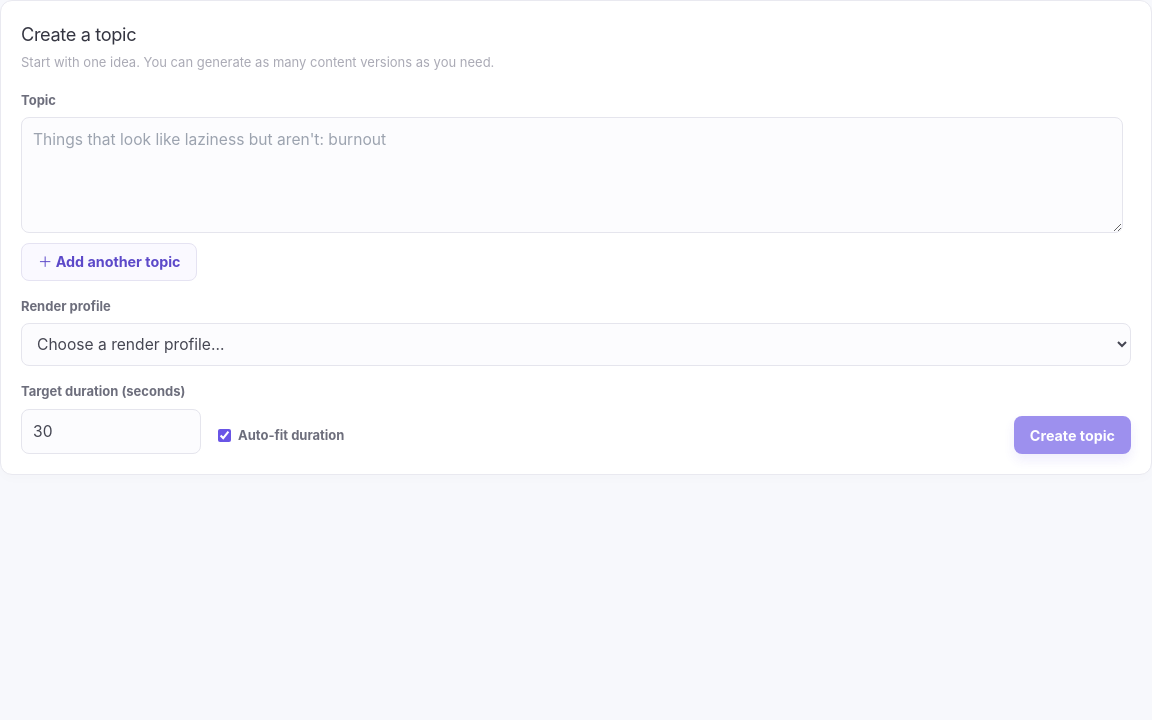
Test case: create topic form › creates multiple independent topics when another topic is added
The width and height of the screenshot is (1152, 720).
Click the button "＋ Add another topic". click: (109, 262)
box: [21,243,198,281]
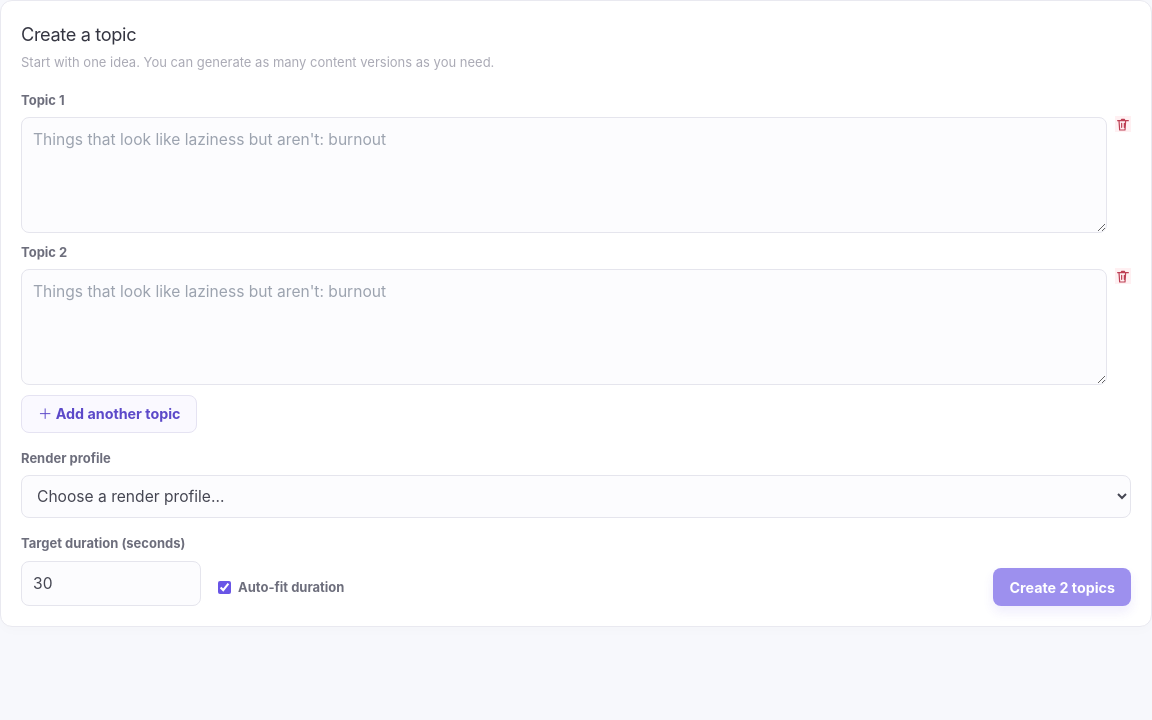
Type "First topic" into the text box labelled "Topic 1". click: (564, 175)
box: [21,117,1107,233]
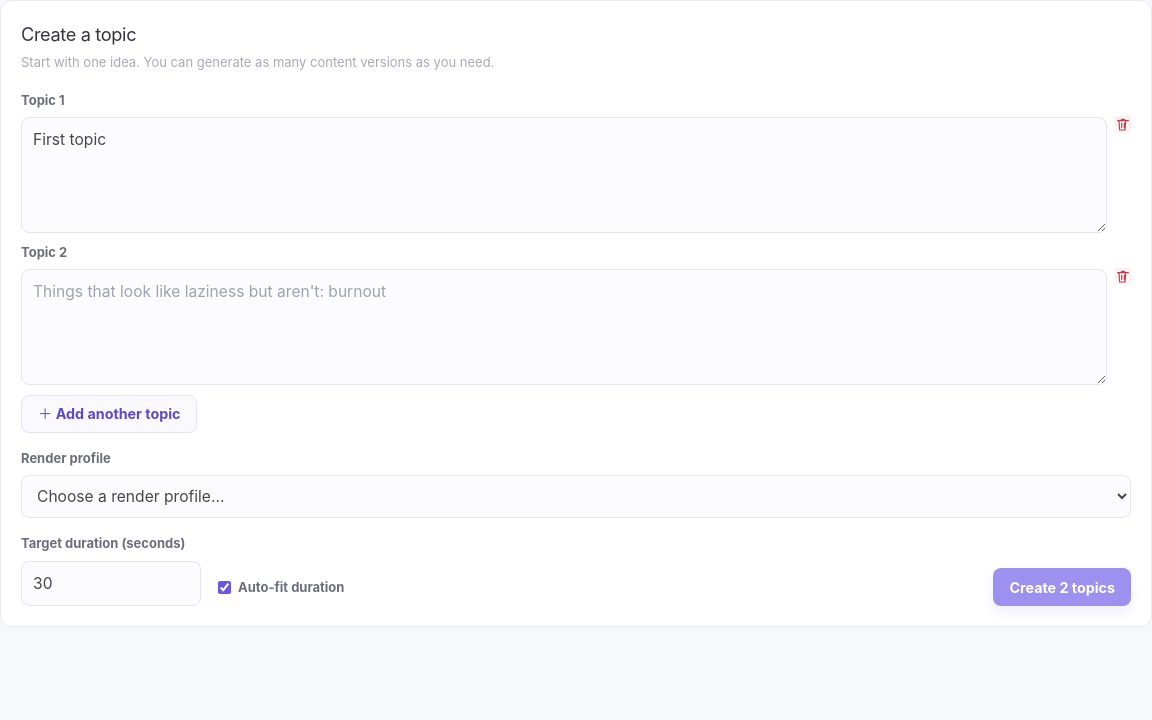
Type "Second topic" into the text box labelled "Topic 2". click: (564, 327)
box: [21,269,1107,385]
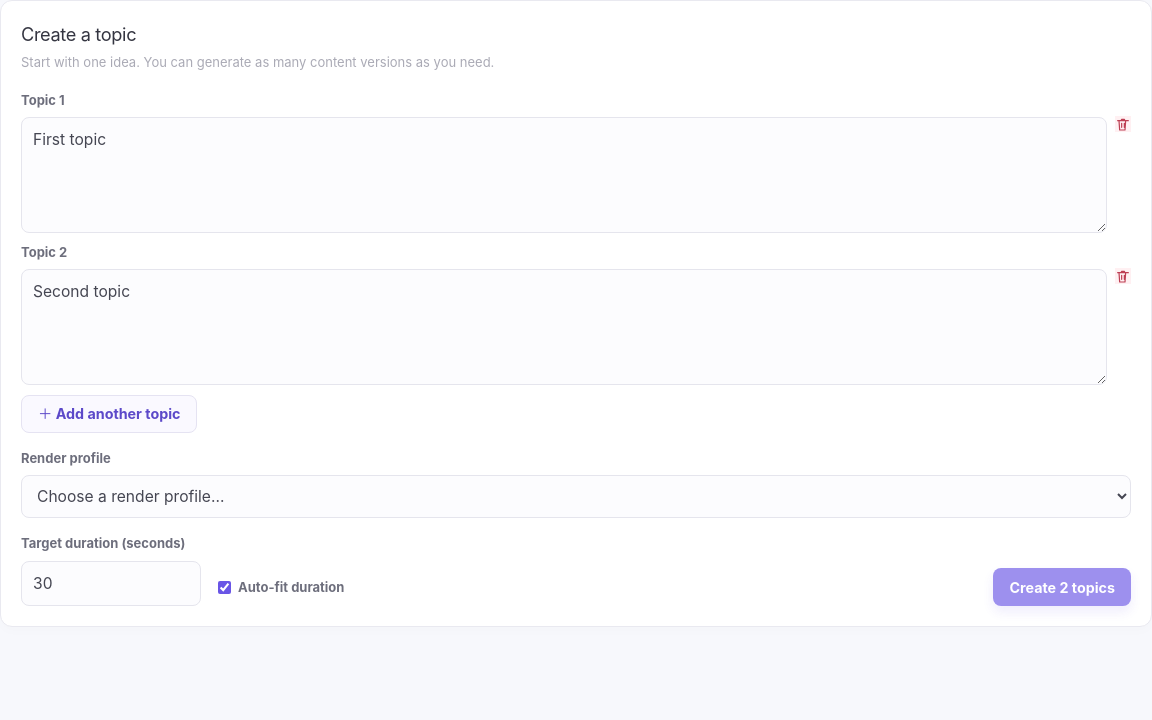
Select "Elena Shelf" in the dropdown labelled "Render profile". click: (576, 497)
box: [21,475,1131,518]
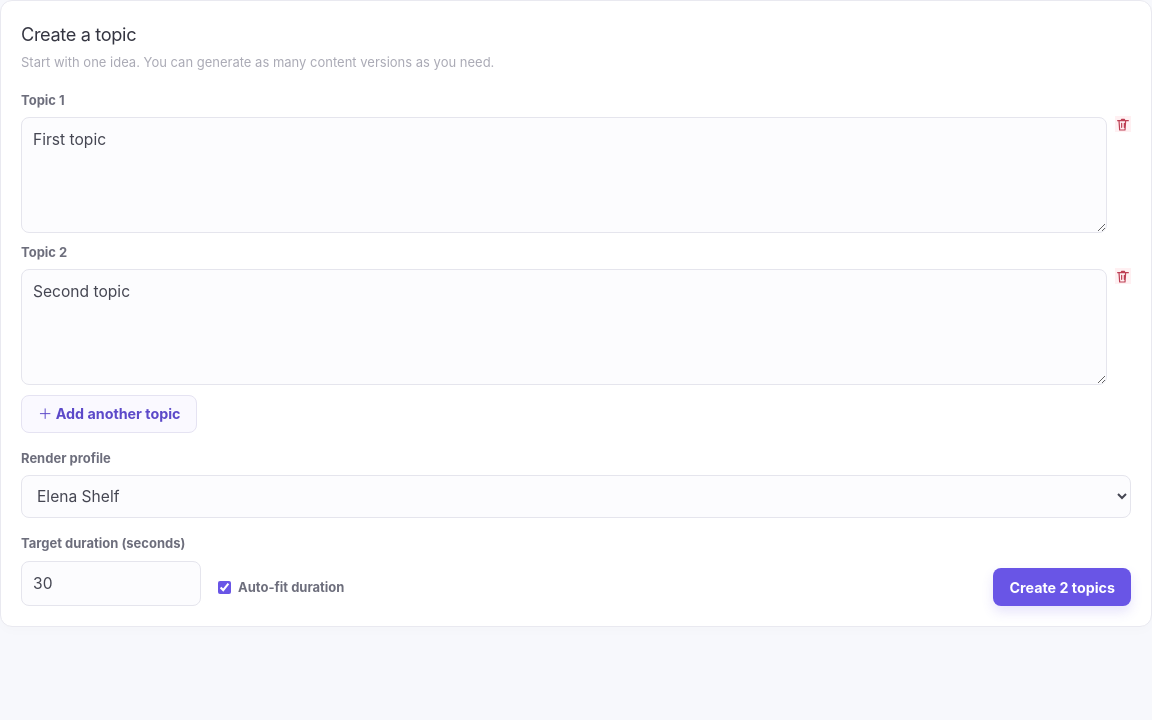
Click the button "Create 2 topics". click: (1062, 587)
box: [993,568,1131,606]
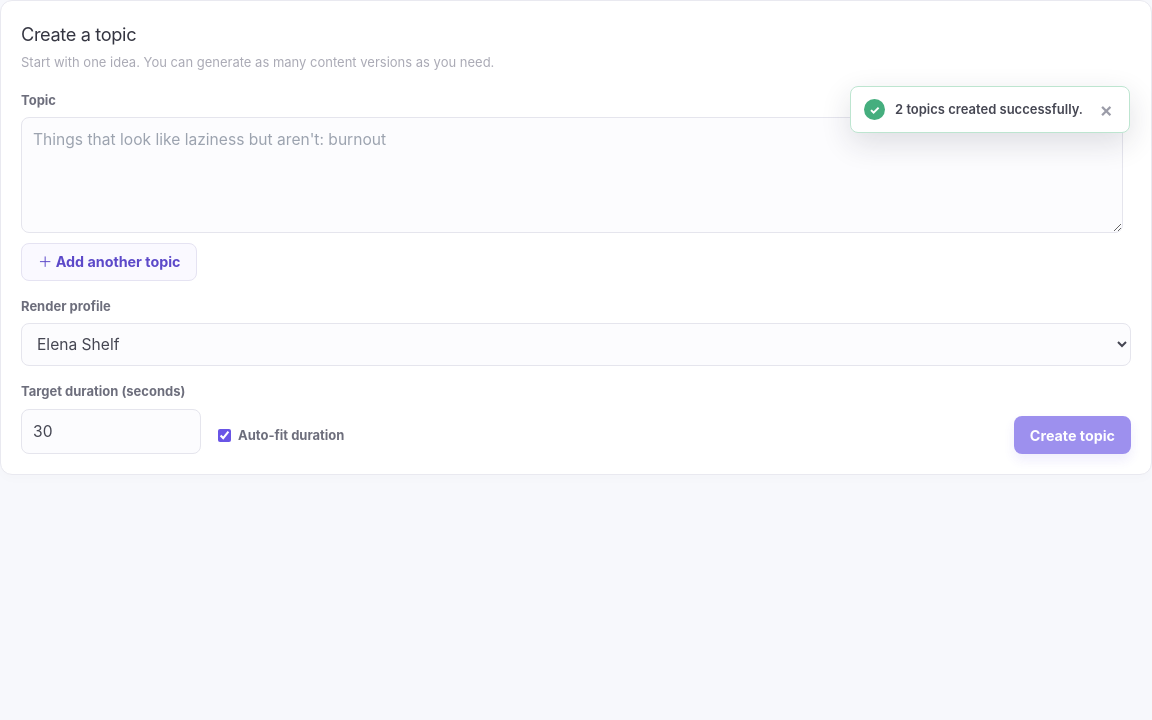
Expected: the text "2 topics created successfully." is shown, [895,100,1083,119]
